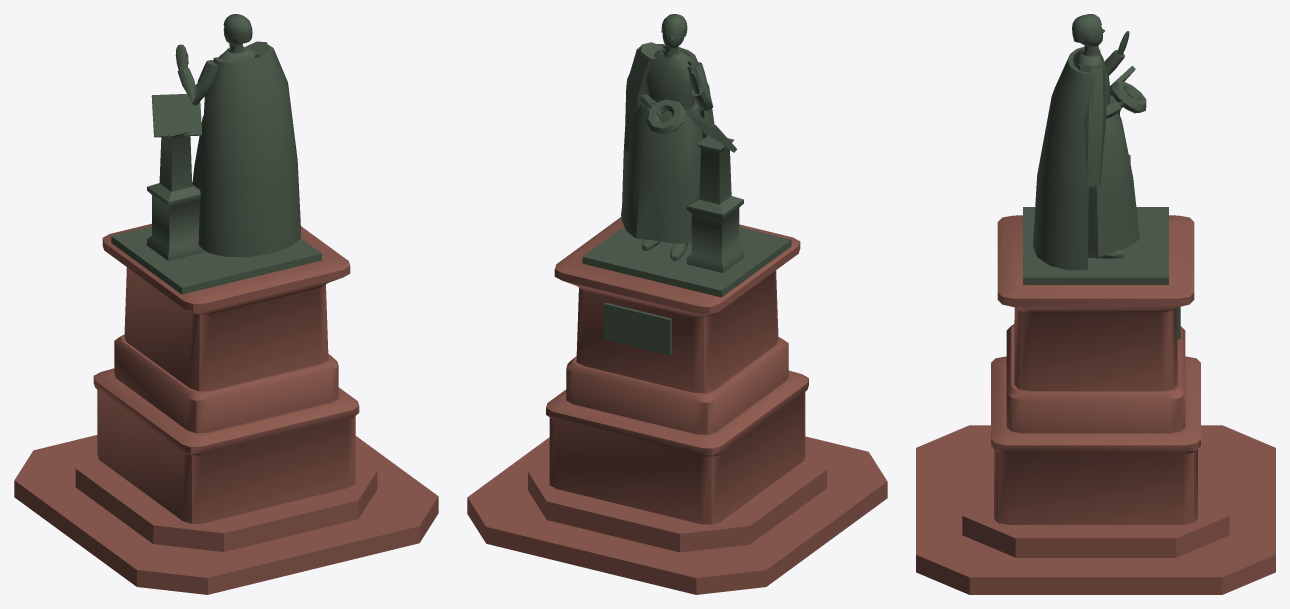
Rendered from mon_weber.glb.
The picture shows the model from 3 angles, left to right: view 1: azimuth 30°, elevation 25°; view 2: azimuth 150°, elevation 25°; view 3: azimuth 270°, elevation 25°; orthographic projection. The views are drawn at different scales.
Visible parts, largest first — view 1: mon_weber; view 2: mon_weber; view 3: mon_weber.
Part boxes in pixels (x1,y1,x2,y2): mon_weber: (14,14,438,594); mon_weber: (467,14,887,594); mon_weber: (916,14,1275,594).
Size of the model in its own units: 3.7 by 5.75 by 3.7.
